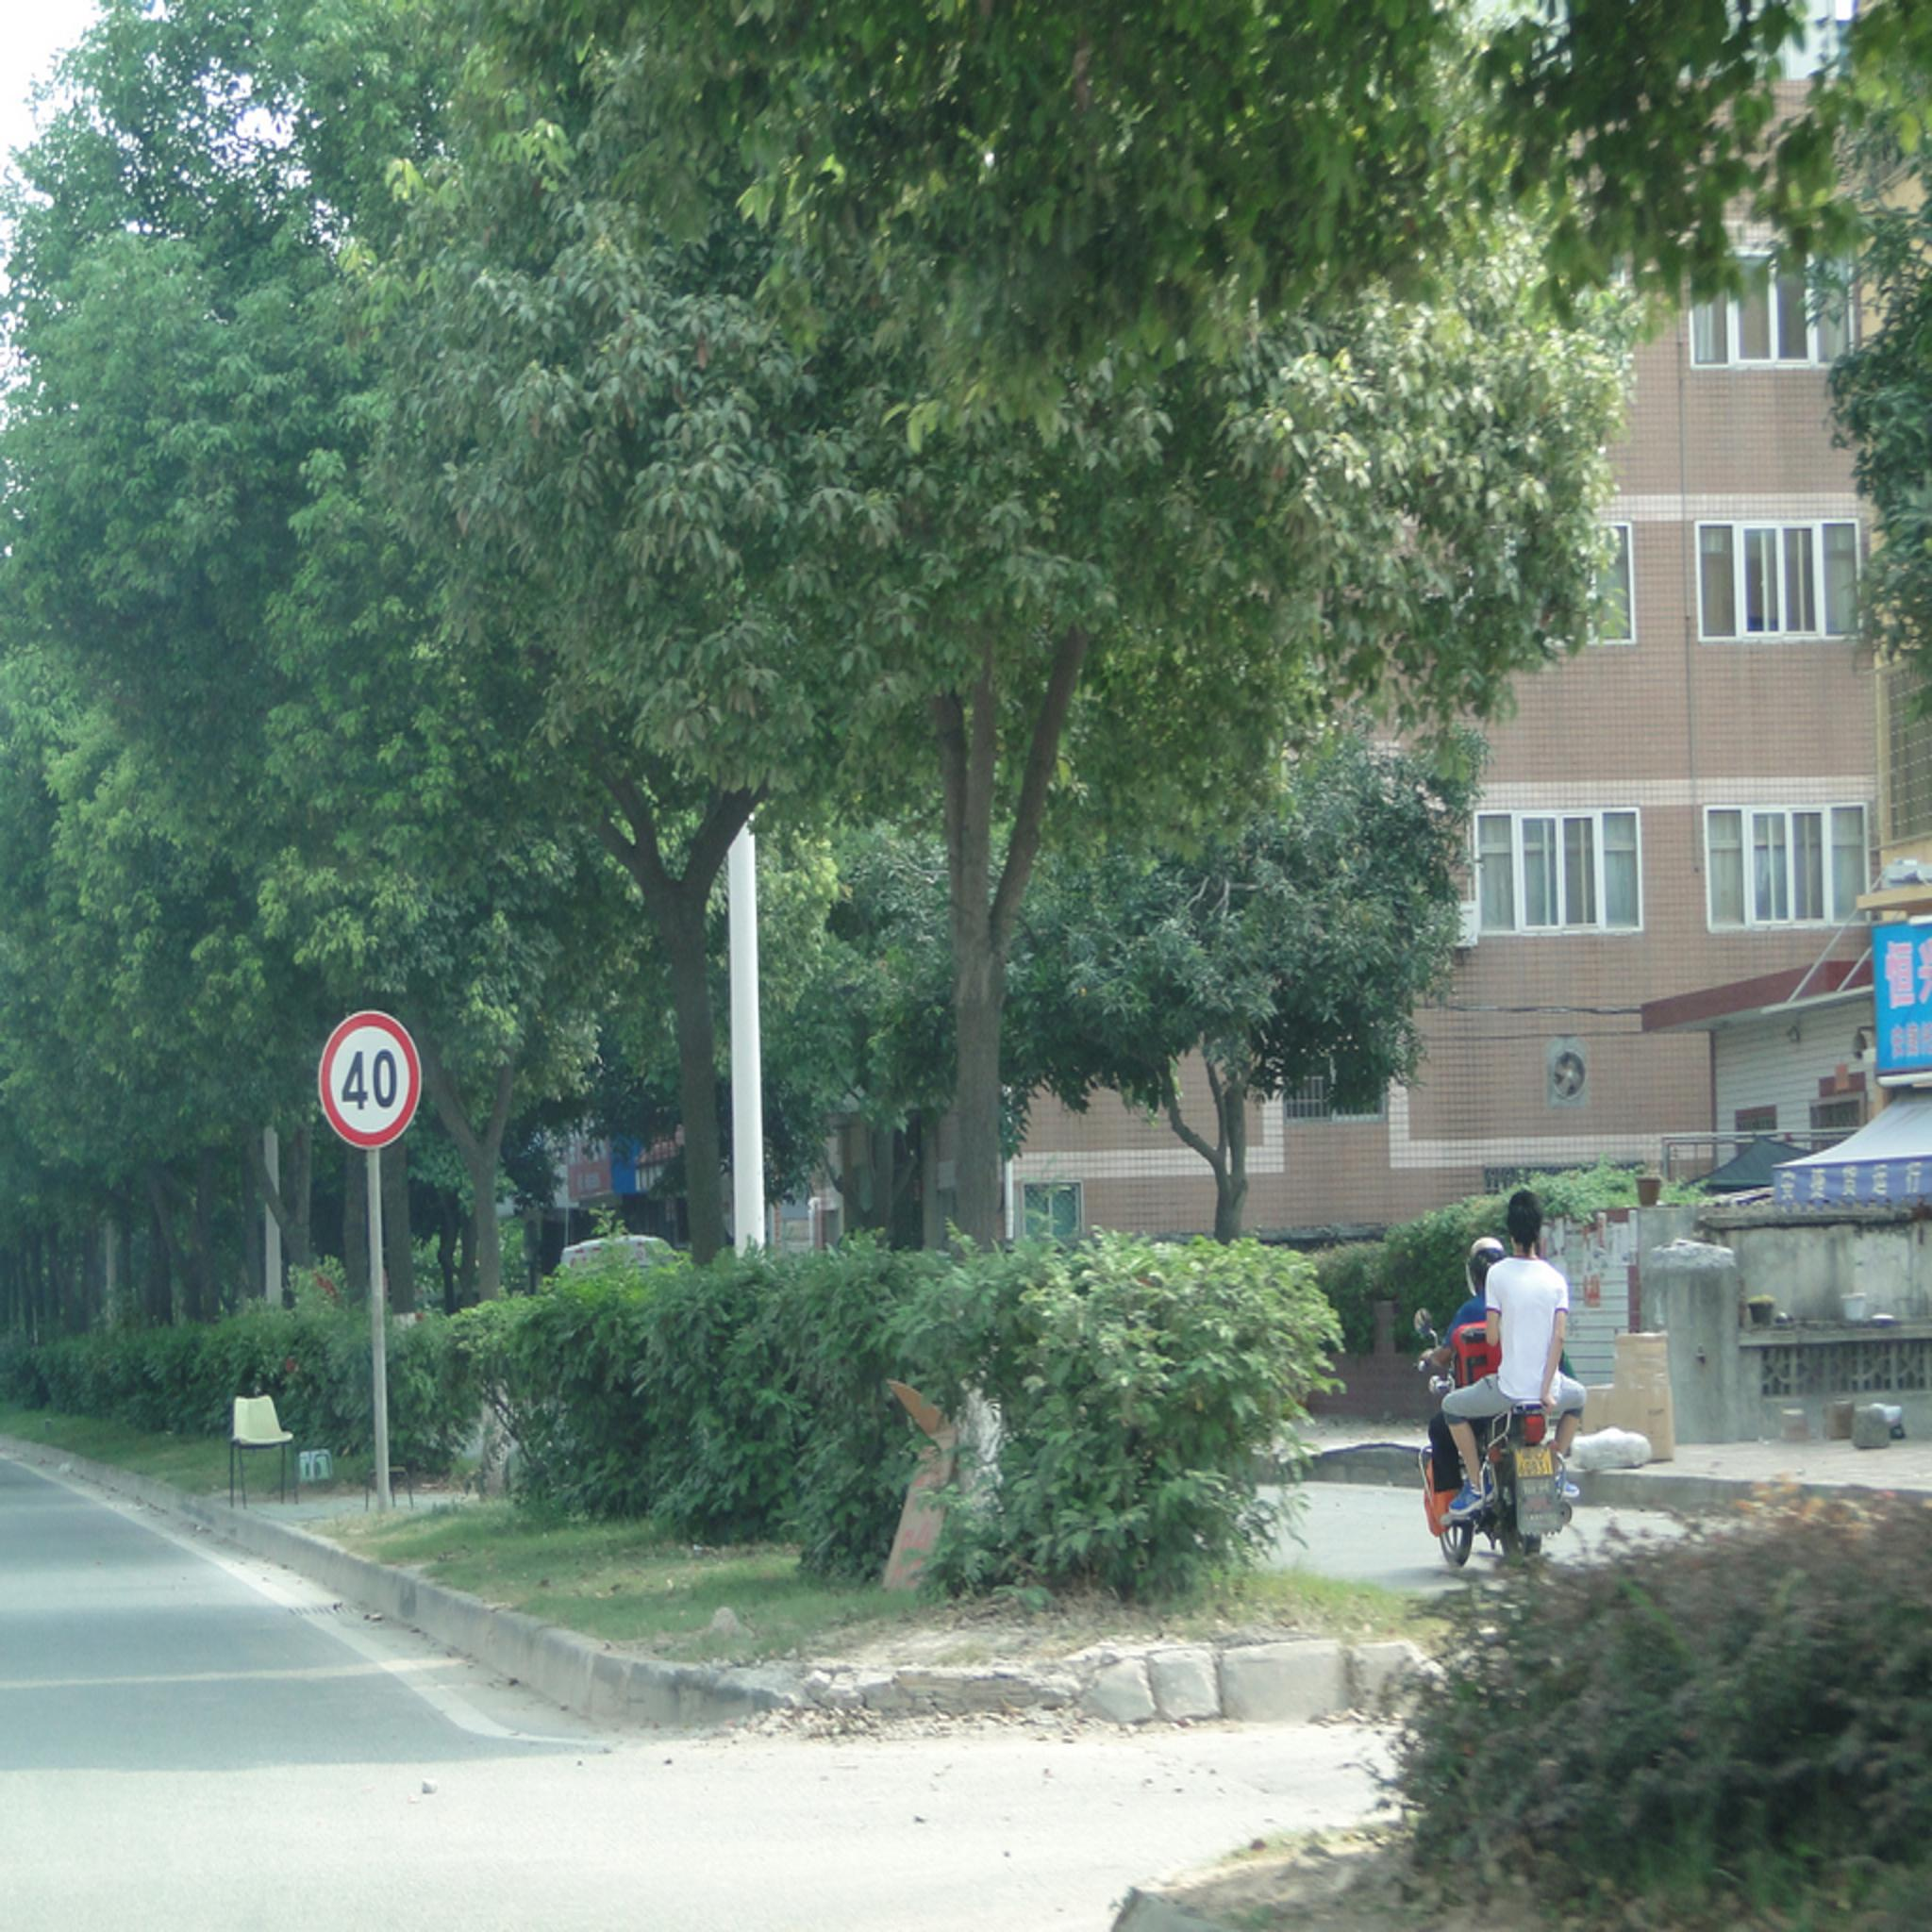pl40: (320, 1003, 418, 1143)
